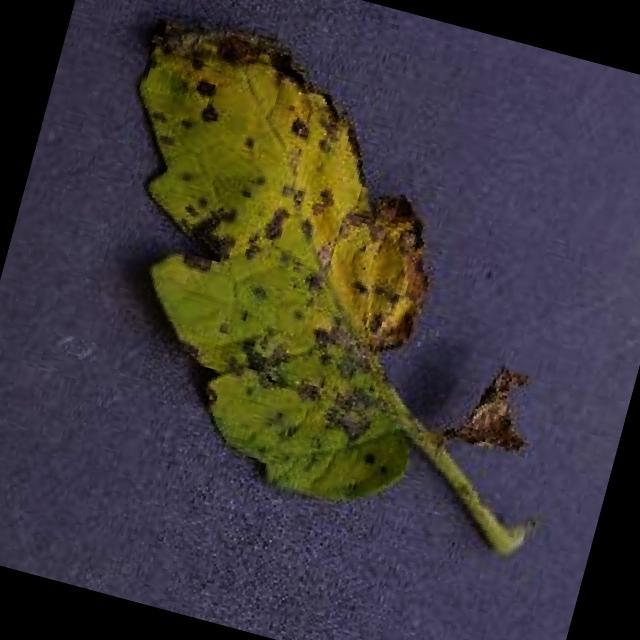Tomato Septoria spot leaf: (41, 6, 512, 519)
